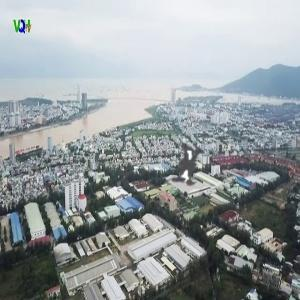drone: (138, 112, 242, 216)
